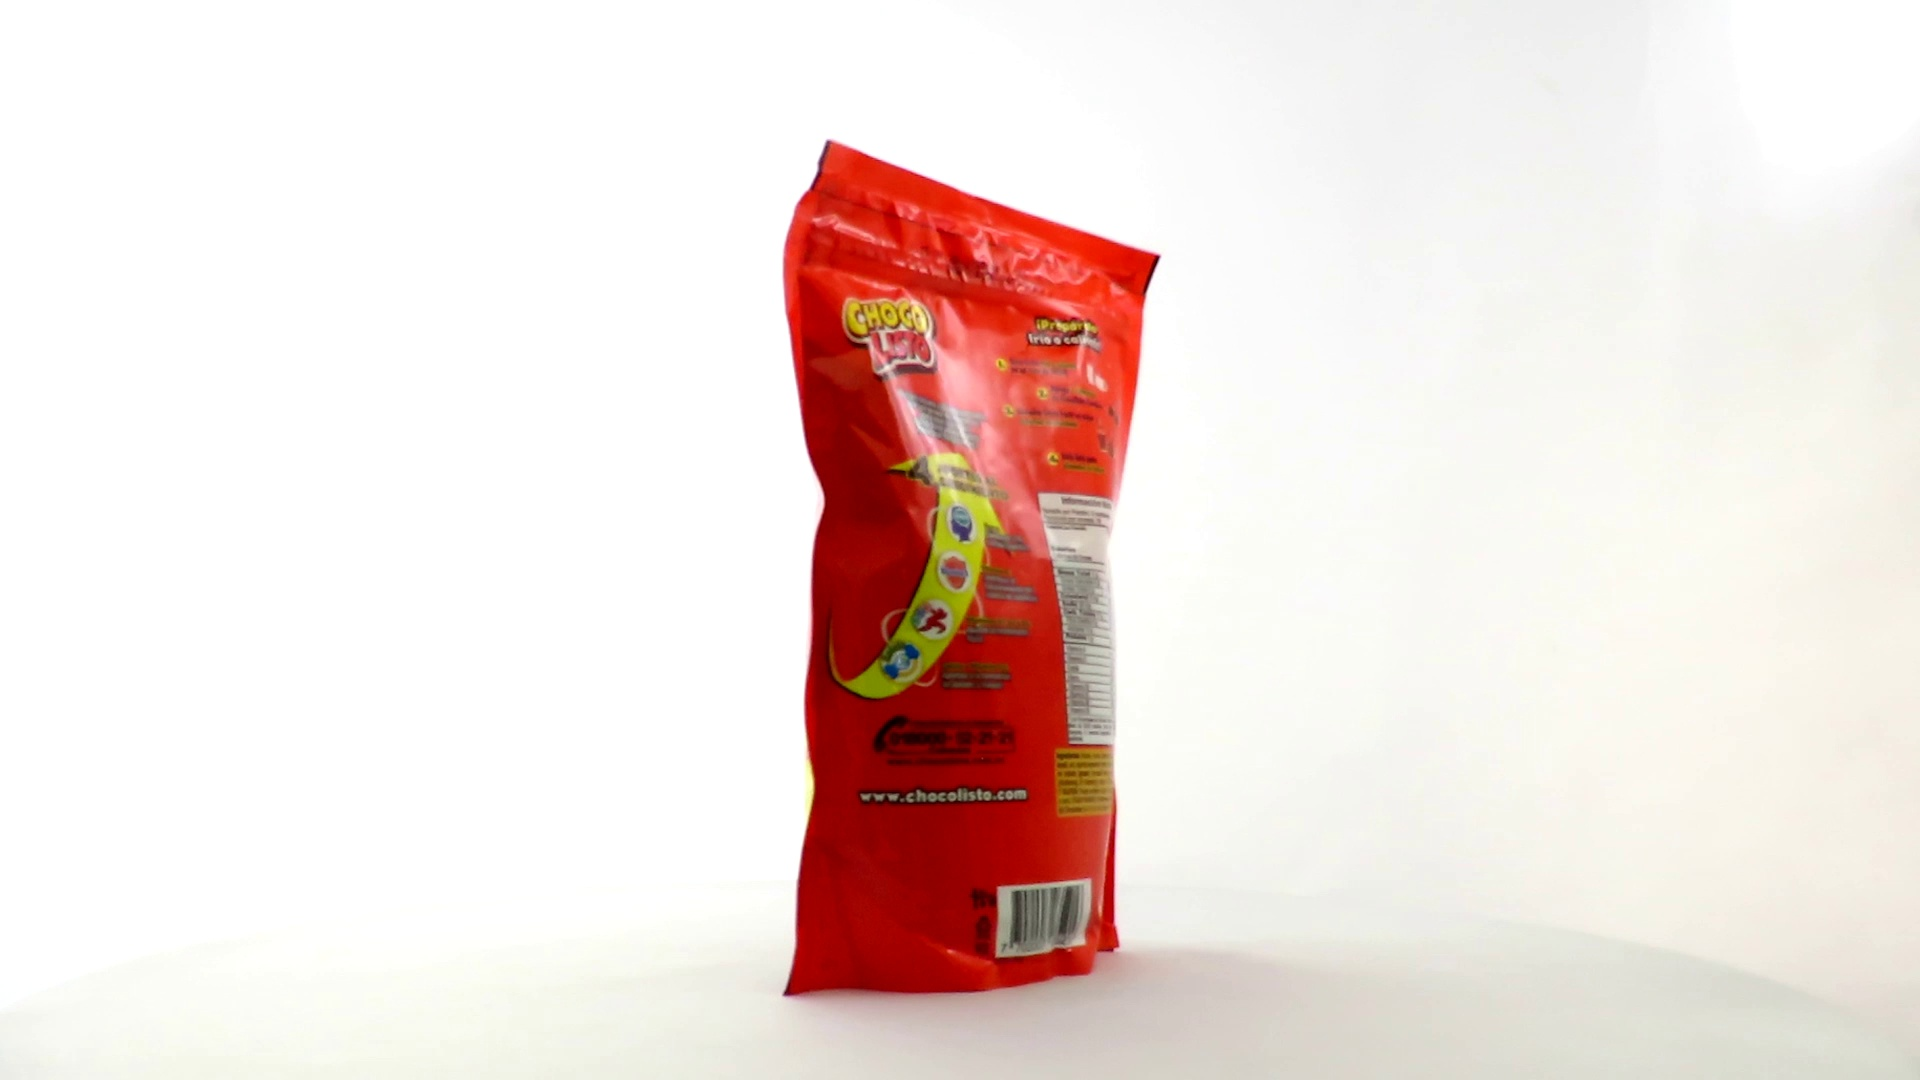COL0170103DYP36000: (777, 135, 1166, 1004)
